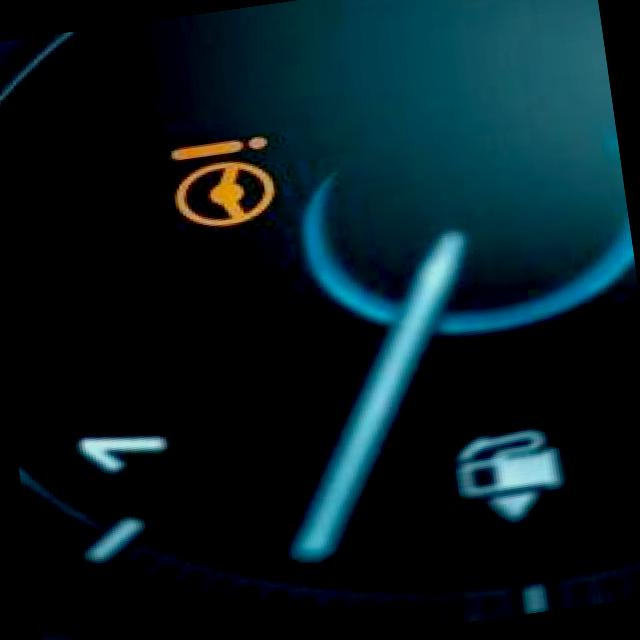kontrolka: (136, 106, 305, 252)
